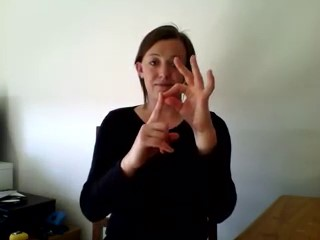P: (125, 52, 218, 168)
